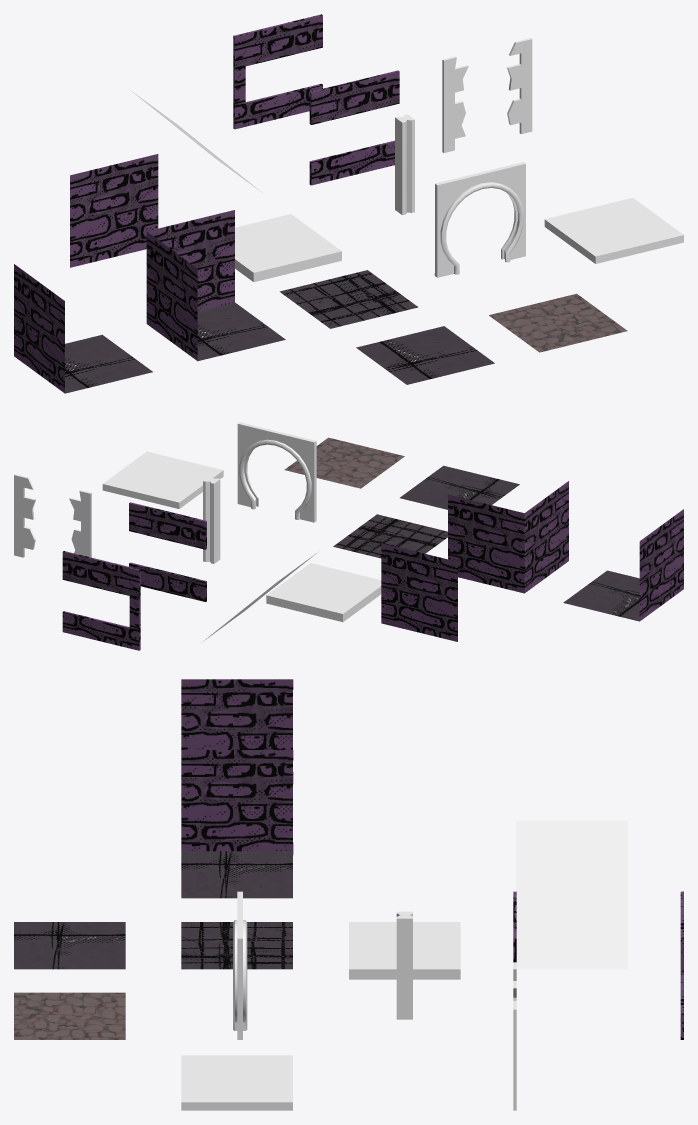
Rendered from Modular_Kit.glb.
The picture shows the model from 3 angles, top to bottom: view 1: azimuth 30°, elevation 25°; view 2: azimuth 150°, elevation 25°; view 3: azimuth 270°, elevation 25°; orthographic projection. The views are drawn at different scales.
Parts seen in each view (by area): view 1: Corner_wall-col, wall-col, Side_wall-col, window_Corner-col, roof-col, window-col, floor_Outside-col, door-col, Ceiling-col, gravel_Floor-col, floor-col, broken_wall-col (+1 smaller); view 2: Corner_wall-col, wall-col, Side_wall-col, window_Corner-col, floor_Outside-col, roof-col, window-col, door-col, gravel_Floor-col, floor-col, Ceiling-col, broken_wall-col (+1 smaller); view 3: slope-col, Corner_wall-col, Side_wall-col, roof-col, floor_Outside-col, floor-col, gravel_Floor-col, Ceiling-col, door-col, pillar-col.
Part boxes in pixels (x1,y1,x2,y2): Corner_wall-col: (146, 210, 285, 361); wall-col: (70, 154, 158, 267); Side_wall-col: (14, 264, 152, 393); window_Corner-col: (233, 14, 322, 129); roof-col: (544, 197, 683, 263); window-col: (309, 70, 399, 185); floor_Outside-col: (235, 214, 341, 281); door-col: (434, 162, 525, 277); Ceiling-col: (279, 270, 418, 328); gravel_Floor-col: (489, 293, 627, 352); floor-col: (356, 326, 494, 384); broken_wall-col: (442, 38, 532, 152); Corner_wall-col: (448, 481, 568, 593); wall-col: (381, 543, 457, 641); Side_wall-col: (563, 509, 683, 621); window_Corner-col: (62, 551, 140, 650); floor_Outside-col: (266, 563, 381, 621); roof-col: (102, 451, 223, 508); window-col: (129, 502, 206, 601); door-col: (237, 422, 316, 522); gravel_Floor-col: (284, 437, 404, 488); floor-col: (400, 465, 519, 509); Ceiling-col: (333, 514, 447, 558); broken_wall-col: (14, 474, 91, 557); slope-col: (516, 820, 628, 969); Corner_wall-col: (181, 750, 293, 898); Side_wall-col: (181, 679, 293, 783); roof-col: (181, 1055, 292, 1110); floor_Outside-col: (349, 922, 460, 979); floor-col: (14, 922, 125, 969); gravel_Floor-col: (14, 992, 125, 1039); Ceiling-col: (181, 922, 292, 969); door-col: (233, 891, 247, 1039); pillar-col: (396, 911, 412, 1019).
Bounding box in the file's own units: 14 × 2.2 × 12.
Materials: 14 (8 with a texture image).
